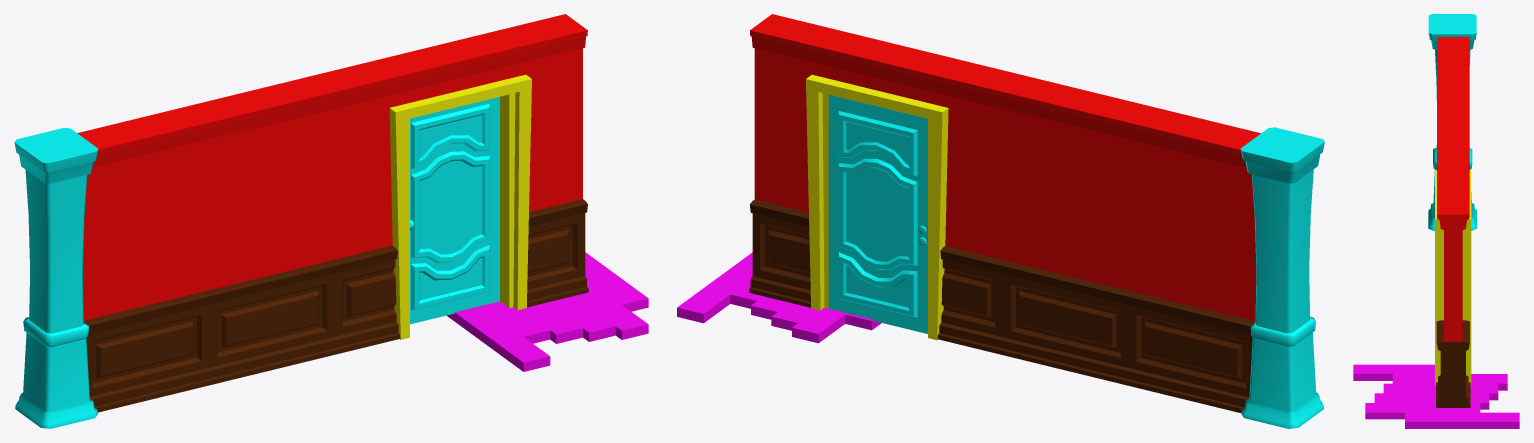
The picture shows the model from 3 angles, left to right: view 1: azimuth 30°, elevation 25°; view 2: azimuth 150°, elevation 25°; view 3: azimuth 270°, elevation 25°; orthographic projection. The views are drawn at different scales.
Parts seen in each view (by area): view 1: Wall_Top_low.002, Wall_Top_low, Wall_Bottom_low.002, Door_low, Wall_Edge_low, Door_Frame_low, Wall_Bottom_low, Floorboards_G1_Low_FBoard_6A_low; view 2: Wall_Top_low.002, Wall_Top_low, Wall_Bottom_low.002, Door_low, Wall_Edge_low, Wall_Bottom_low, Door_Frame_low, Floorboards_G1_Low_FBoard_6A_low; view 3: Floorboards_G1_Low_FBoard_6A_low, Wall_Top_low, Wall_Top_low.002, Door_Frame_low, Wall_Bottom_low, Wall_Edge_low.
Boxes of the visible parts, box(x1,y1,x2,y2) form: Wall_Top_low.002: box(77, 75, 337, 320); Wall_Top_low: box(315, 14, 587, 259); Wall_Bottom_low.002: box(83, 260, 337, 412); Door_low: box(410, 97, 499, 324); Wall_Edge_low: box(14, 127, 98, 428); Door_Frame_low: box(389, 74, 531, 339); Wall_Bottom_low: box(333, 199, 588, 353); Floorboards_G1_Low_FBoard_6A_low: box(446, 252, 648, 371); Wall_Top_low.002: box(1000, 75, 1260, 321); Wall_Top_low: box(750, 14, 1022, 260); Wall_Bottom_low.002: box(1000, 260, 1255, 412); Door_low: box(828, 94, 927, 333); Wall_Edge_low: box(1240, 127, 1324, 428); Wall_Bottom_low: box(749, 199, 1005, 354); Door_Frame_low: box(806, 74, 948, 340); Floorboards_G1_Low_FBoard_6A_low: box(677, 252, 881, 343); Floorboards_G1_Low_FBoard_6A_low: box(1353, 364, 1519, 428); Wall_Top_low: box(1437, 124, 1469, 341); Wall_Top_low.002: box(1437, 37, 1469, 124); Door_Frame_low: box(1435, 170, 1471, 385); Wall_Bottom_low: box(1436, 320, 1470, 407); Wall_Edge_low: box(1428, 14, 1476, 230).
Size of the model in its own units: 566 by 253 by 187.
